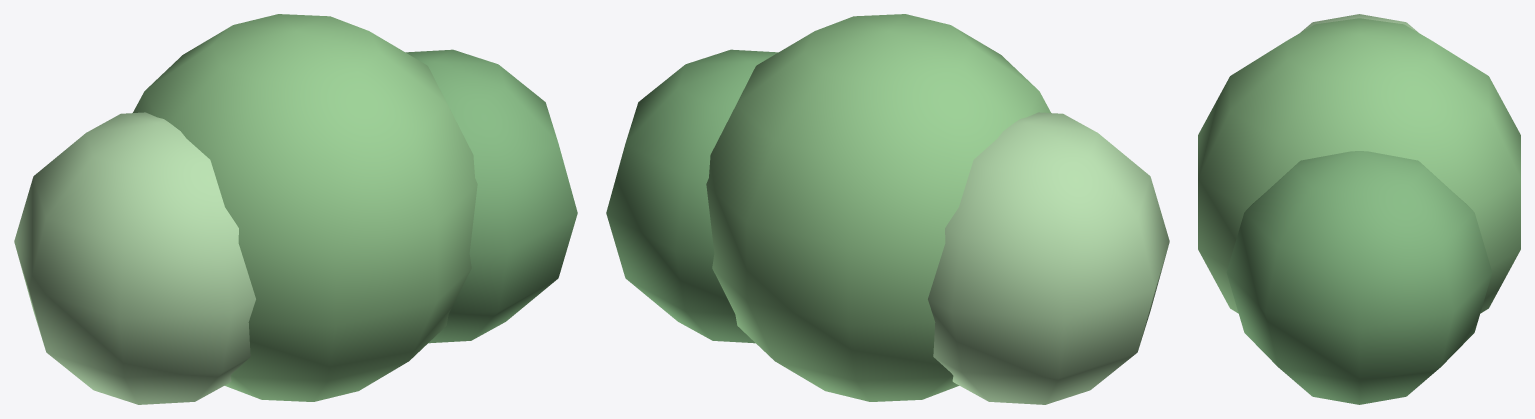
Rendered from Bush.glb.
3 renders of one model, left to right at view 1: azimuth 30°, elevation 25°; view 2: azimuth 150°, elevation 25°; view 3: azimuth 270°, elevation 25°, orthographic. The views are drawn at different scales.
Parts seen in each view (by area): view 1: model; view 2: model; view 3: model.
Boxes of the visible parts, x1,y1,x2,y2 form: model: (14, 14, 577, 404); model: (606, 14, 1169, 404); model: (1198, 14, 1520, 404).
Bounding box in the file's own units: 1.74 × 1.1 × 1.02.
